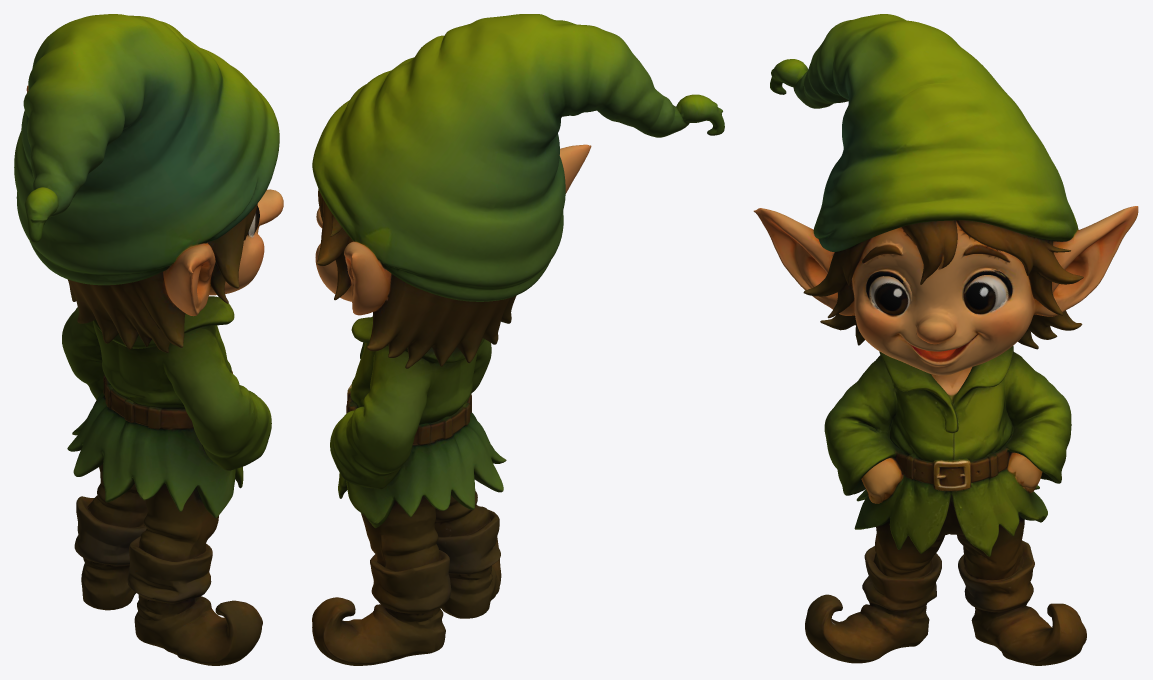
The model's file is duendes del bosque.glb.
3 renders of one model, left to right at view 1: azimuth 30°, elevation 25°; view 2: azimuth 150°, elevation 25°; view 3: azimuth 270°, elevation 25°, orthographic. The views are drawn at different scales.
Parts seen in each view (by area): view 1: tripo_node_edb135d9-b116-4383-bd95-fec68f3b4d90; view 2: tripo_node_edb135d9-b116-4383-bd95-fec68f3b4d90; view 3: tripo_node_edb135d9-b116-4383-bd95-fec68f3b4d90.
Part boxes in pixels (bbox=[...]): tripo_node_edb135d9-b116-4383-bd95-fec68f3b4d90: bbox=[14, 14, 283, 665]; tripo_node_edb135d9-b116-4383-bd95-fec68f3b4d90: bbox=[312, 14, 724, 665]; tripo_node_edb135d9-b116-4383-bd95-fec68f3b4d90: bbox=[753, 14, 1138, 665].
Size of the model in its own units: 0.5533 by 1 by 0.5902.
1 material, 1 textured.
